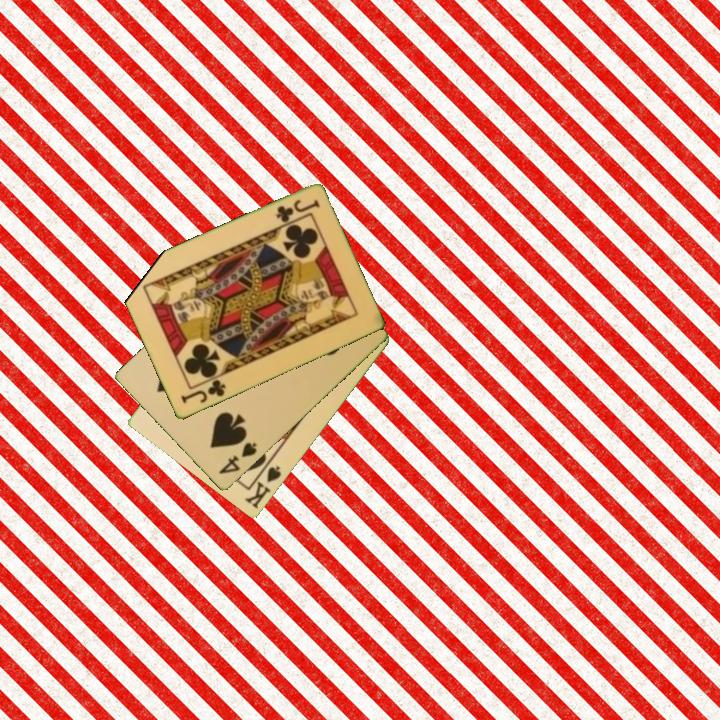4s: (215, 439, 260, 478)
Jc: (177, 376, 229, 407), (272, 196, 322, 225)
Ks: (241, 456, 284, 512)
